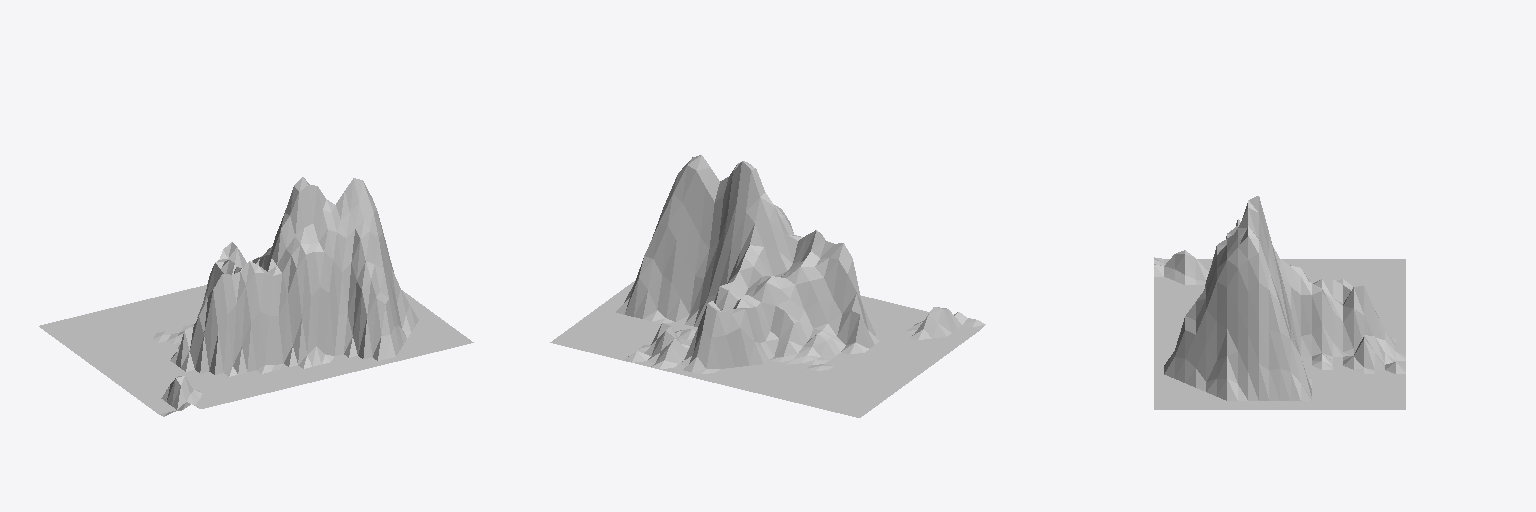
File: moutains_4.obj
3 views of the same model, side by side, from view 1: azimuth 30°, elevation 25°; view 2: azimuth 150°, elevation 25°; view 3: azimuth 270°, elevation 25° (orthographic).
Parts seen in each view (by area): view 1: 平面.004; view 2: 平面.004; view 3: 平面.004.
Part boxes in pixels (x1,y1,x2,y2): 平面.004: (39, 177, 473, 416); 平面.004: (550, 155, 985, 417); 平面.004: (1154, 196, 1405, 409).
Bounding box in the file's own units: 0.8333 × 0.4028 × 0.5882.